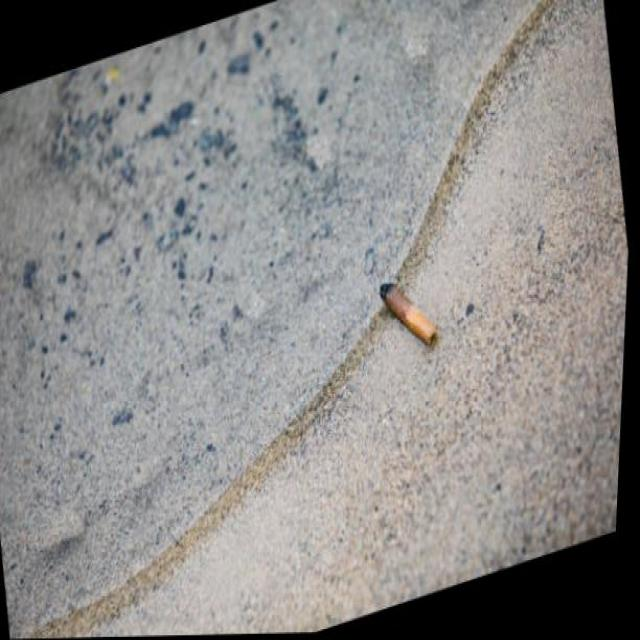cigarette: (379, 264, 446, 366)
